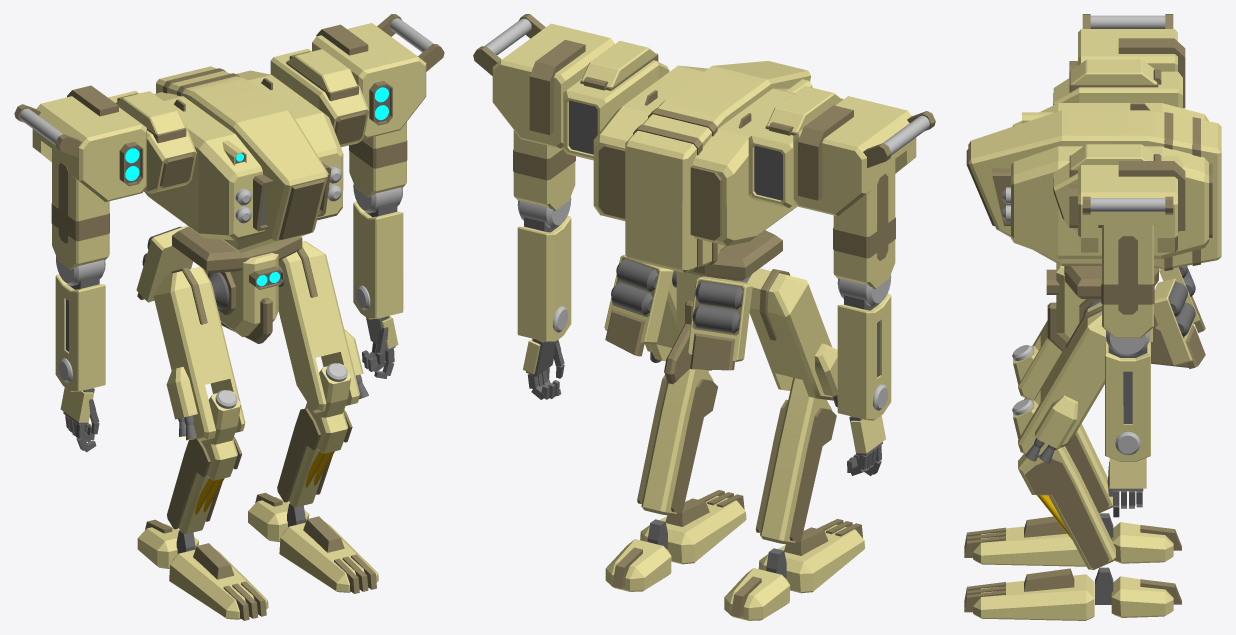
File: Leo.fbx
The picture shows the model from 3 angles, left to right: view 1: azimuth 30°, elevation 25°; view 2: azimuth 150°, elevation 25°; view 3: azimuth 270°, elevation 25°; orthographic projection. The views are drawn at different scales.
Visible parts, largest first — view 1: pCube32, pCube35, pasted__pCube87, pasted__pCube92, pCube68, pCube126 (×2), pCube62, pCube74, pCube67, pasted__pCube90 (×2), pCube39 (×2), pCube73 (+27 smaller); view 2: pCube32, pCube35, pCube68, pasted__pCube92, pCube62, pCube67, pCube74, pCube126 (×2), pasted__pCube91 (×2), pasted__pCube86, pasted__pCube90 (×2), pCube131 (×2) (+28 smaller); view 3: pCube32, pCube35, pCube126 (×2), pCube62, pasted__pCube87, pCube67, pasted__pCube88 (×2), pCube131 (×2), pCube63, pCube39 (×2), pCube68, pCube41 (+27 smaller).
Part boxes in pixels (<box>): pCube32: <box>156,66,328,252</box>; pCube35: <box>144,70,343,240</box>; pasted__pCube87: <box>278,241,359,413</box>; pasted__pCube92: <box>153,266,245,441</box>; pCube68: <box>32,96,146,201</box>; pCube126 (×2): <box>169,521,378,619</box>; pCube62: <box>312,23,426,139</box>; pCube74: <box>55,274,105,391</box>; pCube67: <box>353,201,403,319</box>; pasted__pCube90 (×2): <box>167,408,320,529</box>; pCube39 (×2): <box>116,49,357,134</box>; pCube73: <box>52,149,109,269</box>; pCube32: <box>625,61,810,272</box>; pCube35: <box>593,65,797,245</box>; pCube68: <box>793,96,916,216</box>; pasted__pCube92: <box>747,268,833,400</box>; pCube62: <box>492,23,614,148</box>; pCube67: <box>517,215,571,342</box>; pCube74: <box>837,294,891,420</box>; pCube126 (×2): <box>640,495,864,593</box>; pasted__pCube91 (×2): <box>759,269,832,544</box>; pasted__pCube86: <box>641,368,713,516</box>; pasted__pCube90 (×2): <box>671,379,836,541</box>; pCube131 (×2): <box>605,539,790,620</box>; pCube32: <box>966,110,1221,270</box>; pCube35: <box>1011,103,1212,258</box>; pCube126 (×2): <box>973,526,1094,620</box>; pCube62: <box>1078,165,1177,252</box>; pasted__pCube87: <box>1018,302,1106,457</box>; pCube67: <box>1105,342,1150,461</box>; pasted__pCube88 (×2): <box>1025,434,1108,568</box>; pCube131 (×2): <box>1111,522,1173,617</box>; pCube63: <box>1102,225,1153,337</box>; pCube39 (×2): <box>1071,59,1156,169</box>; pCube68: <box>1078,29,1177,71</box>; pCube41: <box>1053,71,1182,108</box>.
Bounding box in the file's own units: 20.34 × 23.88 × 11.66.
